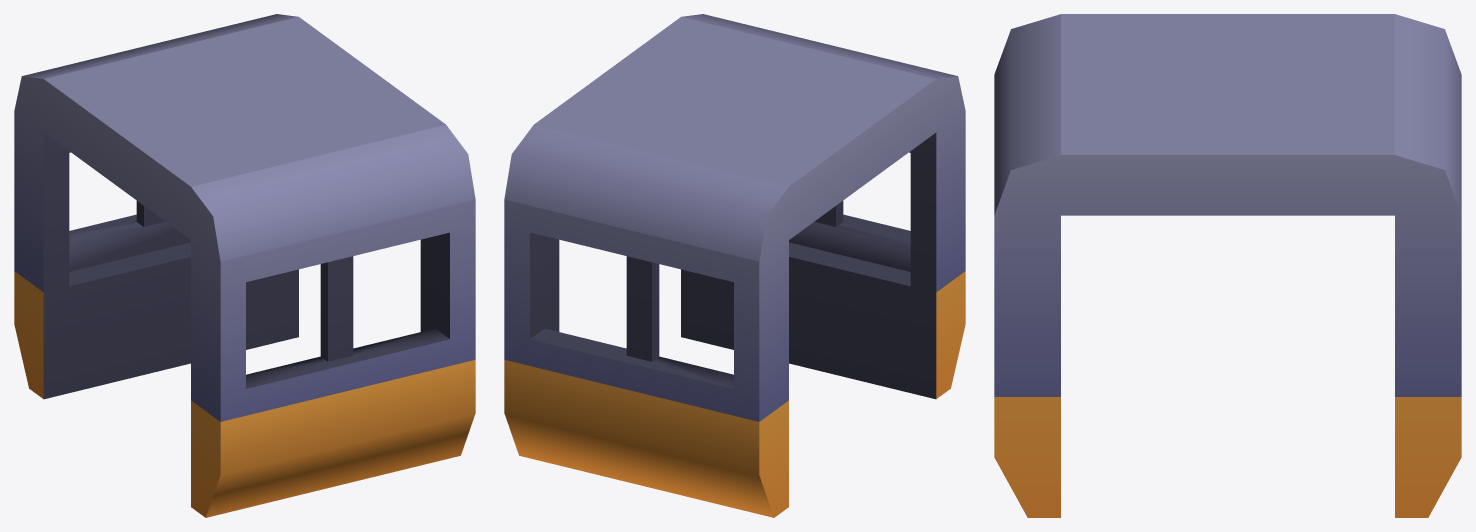
Rendered from cover-stripe-bar.glb.
The picture shows the model from 3 angles, left to right: view 1: azimuth 30°, elevation 25°; view 2: azimuth 150°, elevation 25°; view 3: azimuth 270°, elevation 25°; orthographic projection. The views are drawn at different scales.
Visible parts, largest first — view 1: cover-stripe-bar; view 2: cover-stripe-bar; view 3: cover-stripe-bar.
Part boxes in pixels (bbox=[...]): cover-stripe-bar: bbox=[14, 14, 475, 517]; cover-stripe-bar: bbox=[504, 14, 965, 517]; cover-stripe-bar: bbox=[994, 14, 1461, 517].
Bounding box in the file's own units: 1 × 1.2 × 1.4.
